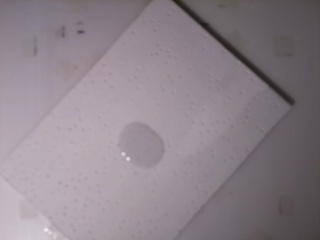Water_detected: (126, 126, 164, 166)
